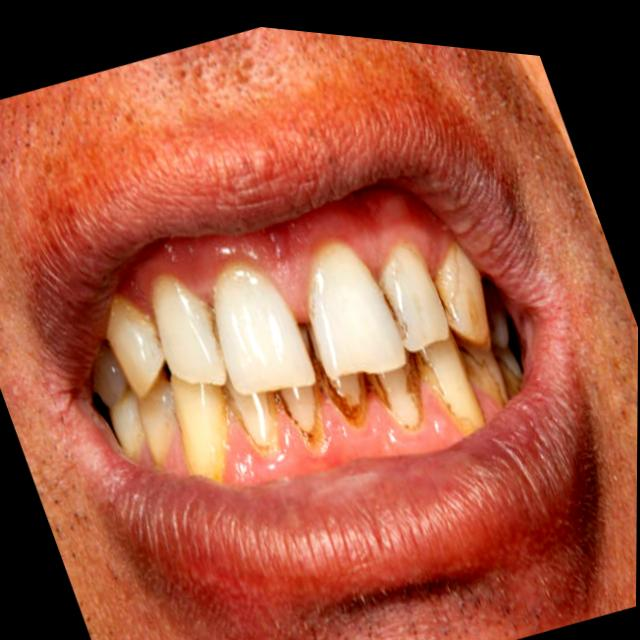calculus: (425, 362, 472, 433), (232, 390, 271, 463), (320, 361, 363, 424), (469, 362, 508, 407), (309, 383, 328, 452), (404, 356, 423, 424), (385, 291, 407, 347), (277, 393, 306, 432), (268, 406, 286, 460), (367, 374, 386, 406), (361, 375, 370, 412)
